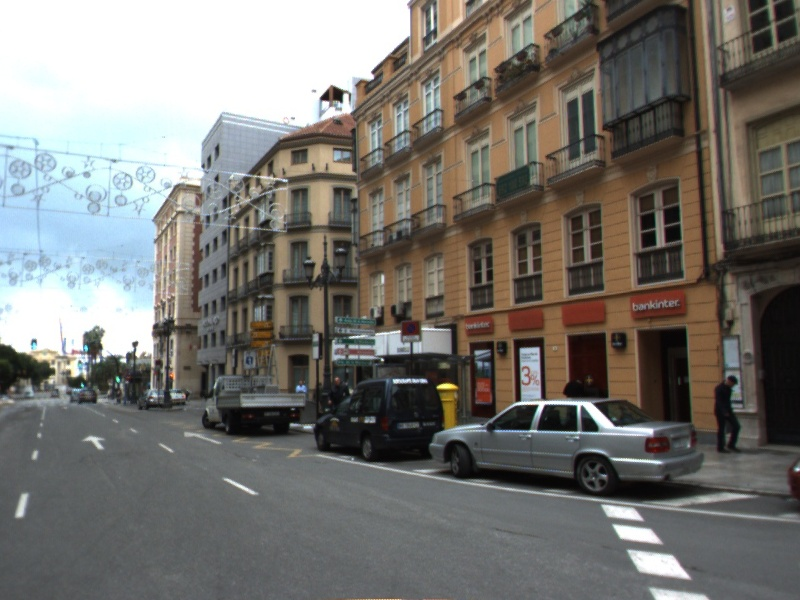STRAIGHT: (181, 428, 225, 447), (79, 433, 109, 452)
